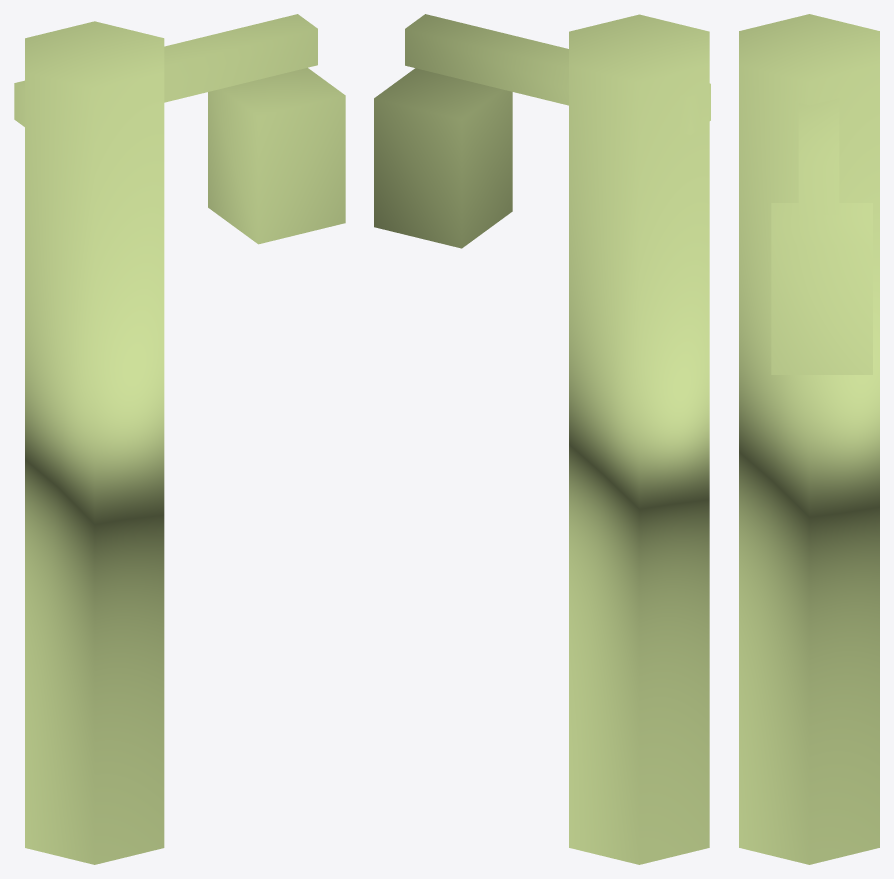
File: ps2_jrpg_crossroads_wooden_sign_post.obj
3 renders of one model, left to right at view 1: azimuth 30°, elevation 25°; view 2: azimuth 150°, elevation 25°; view 3: azimuth 270°, elevation 25°, orthographic.
Size of the model in its own units: 0.6919 by 1.7 by 0.2771.
